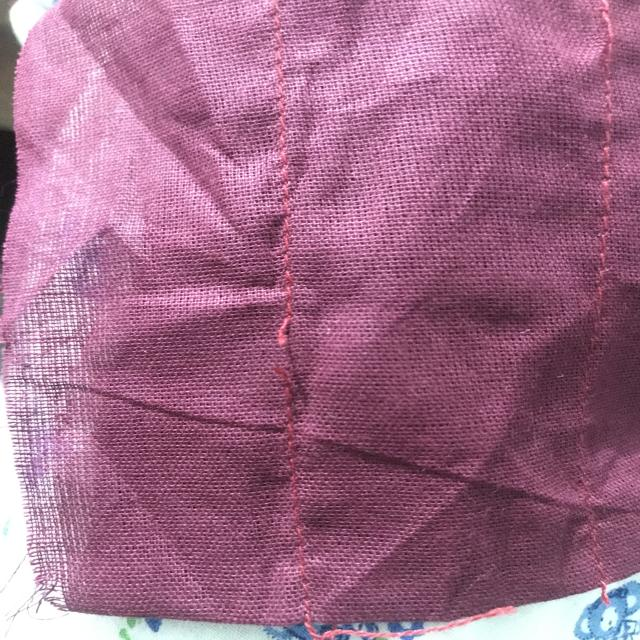broken: (249, 301, 320, 421)
